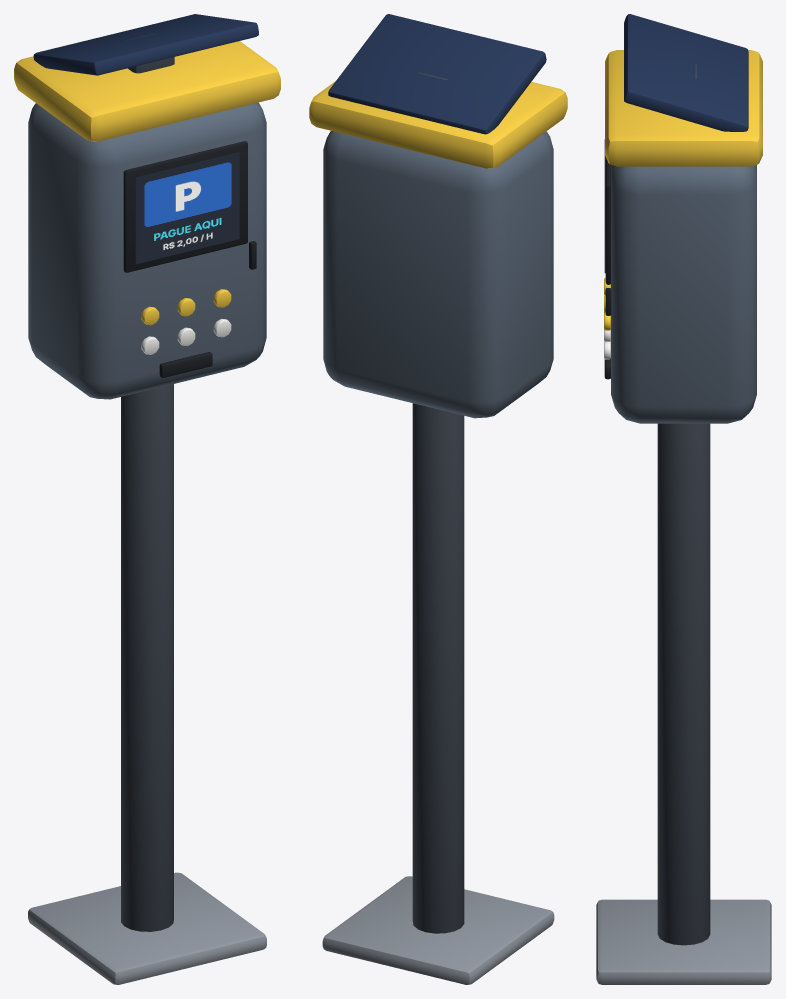
File: parquimetro.glb
The picture shows the model from 3 angles, left to right: view 1: azimuth 30°, elevation 25°; view 2: azimuth 150°, elevation 25°; view 3: azimuth 270°, elevation 25°; orthographic projection. The views are drawn at different scales.
Visible parts, largest first — view 1: parquimetro; view 2: parquimetro; view 3: parquimetro.
Boxes of the visible parts, x1,y1,x2,y2 form: parquimetro: (14, 14, 280, 984); parquimetro: (309, 14, 567, 984); parquimetro: (596, 14, 771, 984).
Size of the model in its own units: 0.38 by 1.7 by 0.3.
Materials: 2 (2 with a texture image).
